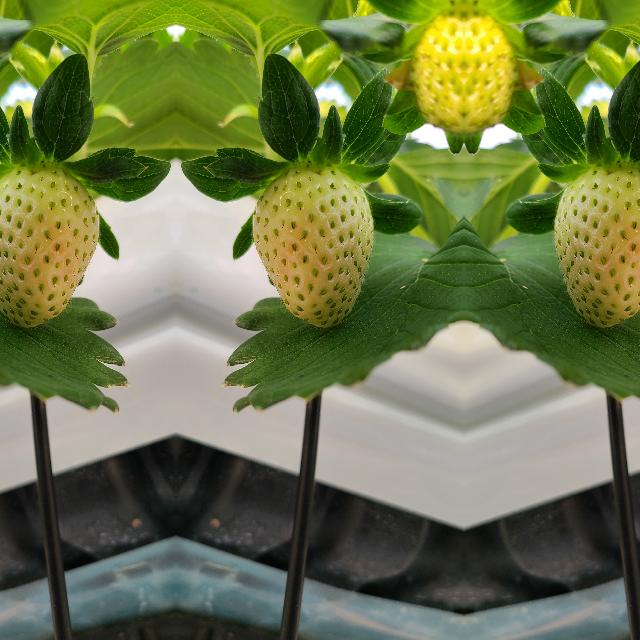Health_25: (249, 164, 375, 330), (0, 164, 101, 330), (551, 164, 640, 330), (411, 14, 463, 128), (463, 14, 515, 128)
